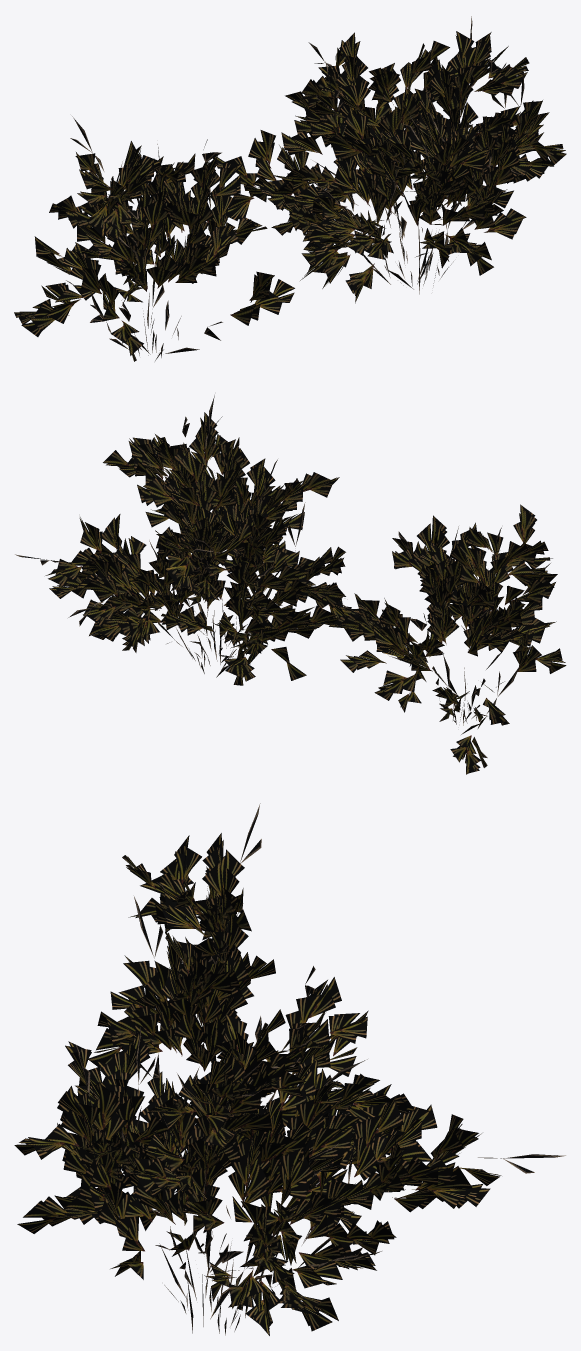
Rendered from wild_rooibos_bush_v1.glb.
The picture shows the model from 3 angles, top to bottom: view 1: azimuth 30°, elevation 25°; view 2: azimuth 150°, elevation 25°; view 3: azimuth 270°, elevation 25°; orthographic projection. The views are drawn at different scales.
Parts seen in each view (by area): view 1: lod0; view 2: lod0; view 3: lod0.
Part boxes in pixels (x1=…): lod0: x1=14, y1=16, x2=566, y2=361; lod0: x1=15, y1=395, x2=566, y2=774; lod0: x1=14, y1=803, x2=565, y2=1335.
Size of what is drawn, in the model's own units: 1.17 by 0.5418 by 0.8433.
3 materials, 3 textured.
